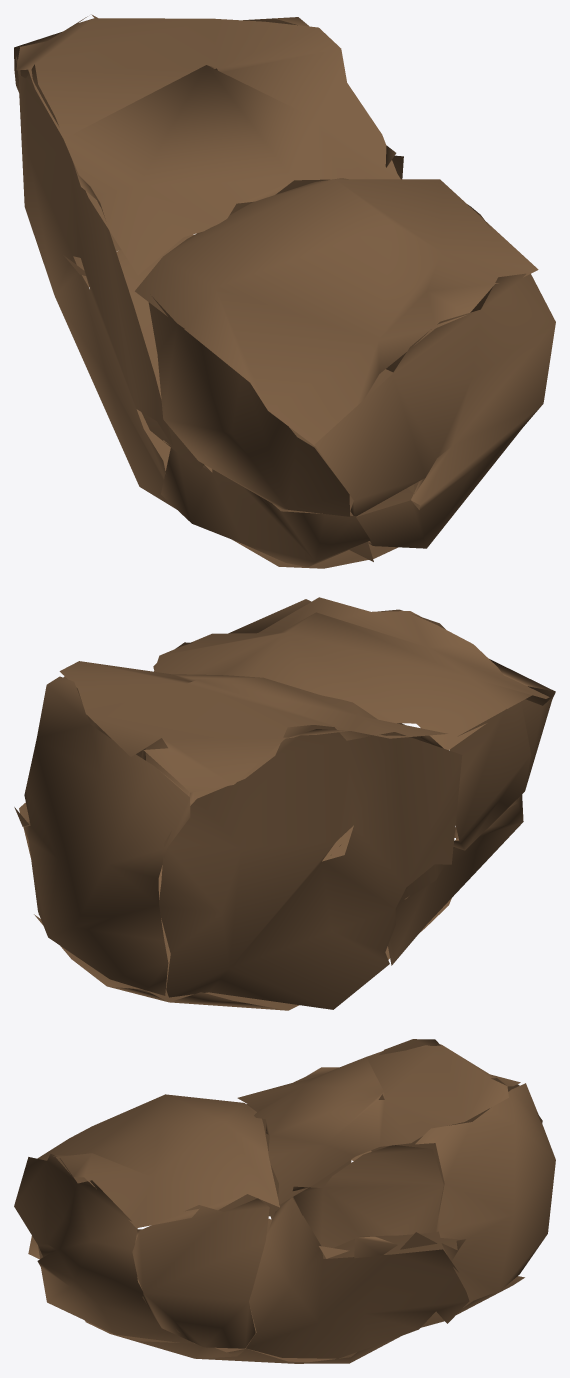
The model's file is rock-desert-large-lod1.glb.
The picture shows the model from 3 angles, top to bottom: view 1: azimuth 30°, elevation 25°; view 2: azimuth 150°, elevation 25°; view 3: azimuth 270°, elevation 25°; orthographic projection. The views are drawn at different scales.
Parts seen in each view (by area): view 1: rock-desert-large.001; view 2: rock-desert-large.001; view 3: rock-desert-large.001.
Boxes of the visible parts, <box> form: rock-desert-large.001: <box>14,14,555,568</box>; rock-desert-large.001: <box>14,597,555,1010</box>; rock-desert-large.001: <box>14,1039,555,1363</box>.
Bounding box in the file's own units: 3.28 × 3.24 × 6.03.
